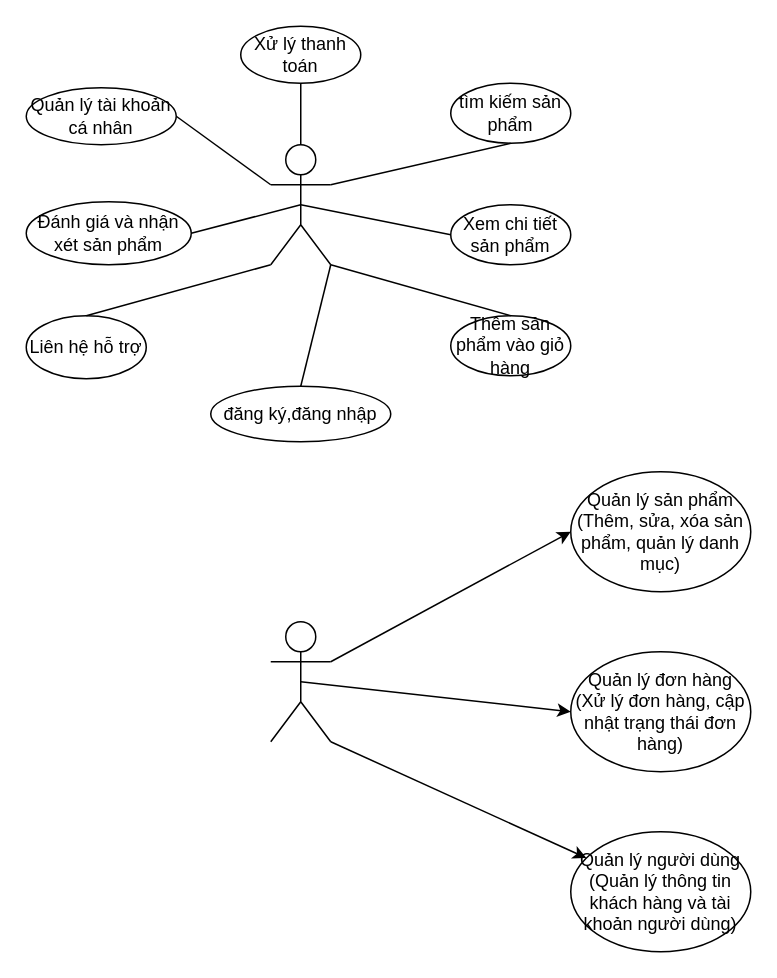
Some shapes in this 777 by 978 pixel diagram are drawn without their labels. Each missing label, with the centre of its shape:
admin: the point at 300,681
khách hàng: the point at 300,204
